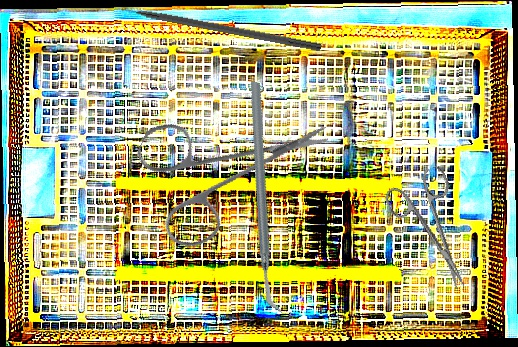Chopper: (178, 79, 354, 314)
Hook Surgical: (110, 0, 322, 52)
Iris Scissors: (108, 57, 333, 283), (380, 164, 489, 301)
